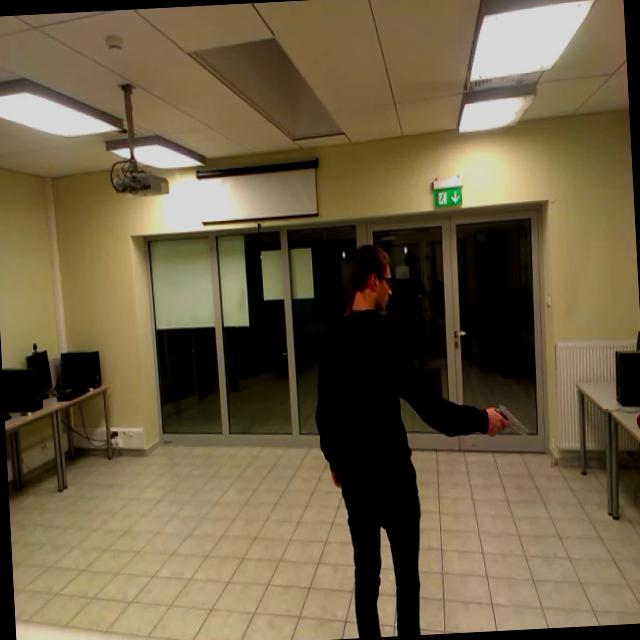handgun: (488, 389, 532, 444)
